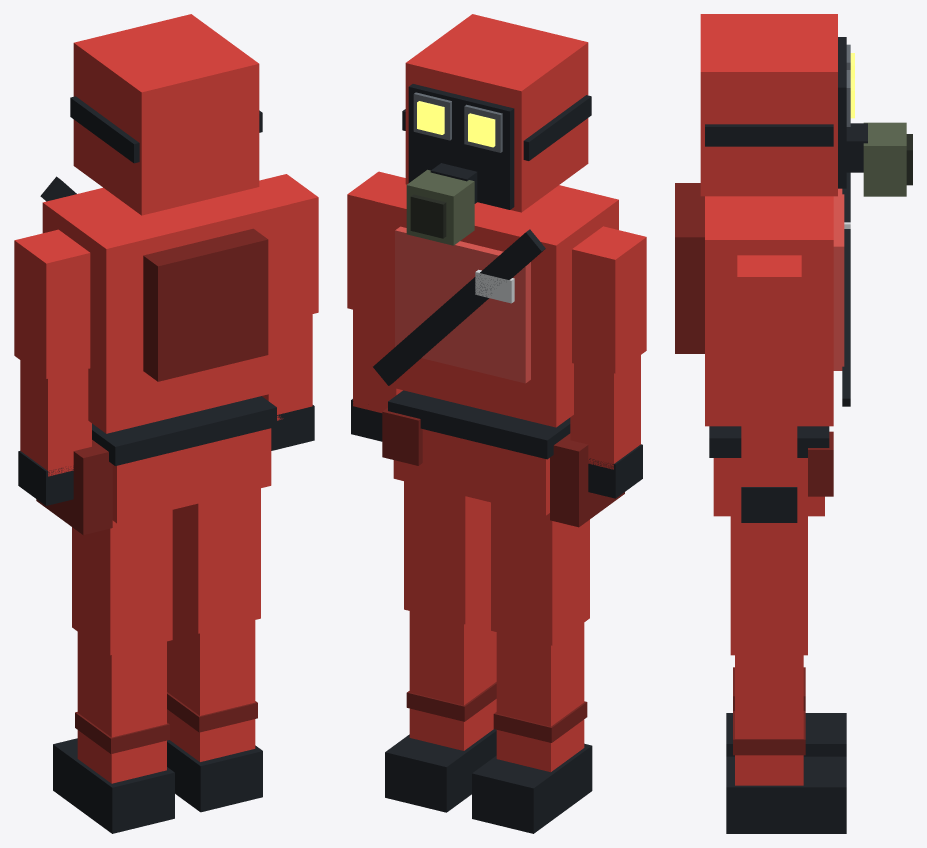
File: gas_mask_red.glb
The picture shows the model from 3 angles, left to right: view 1: azimuth 30°, elevation 25°; view 2: azimuth 150°, elevation 25°; view 3: azimuth 270°, elevation 25°; orthographic projection. The views are drawn at different scales.
Visible parts, largest first — view 1: Merged4, Merged, Merged7, Merged5, Merged6, _MeshInstance3D_1770, _MeshInstance3D_1781, _MeshInstance3D_1765, Merged2, _MeshInstance3D_1776, Merged3; view 2: Merged4, Merged, Merged7, Merged5, Merged6, _MeshInstance3D_1770, _MeshInstance3D_1781, _MeshInstance3D_1765, Merged2, _MeshInstance3D_1776, Merged3; view 3: Merged, Merged4, Merged6, _MeshInstance3D_1781, _MeshInstance3D_1776, Merged3, Merged7, Merged5.
Part boxes in pixels (x1,y1,x2,y2): Merged4: [40, 176, 290, 433]; Merged: [70, 14, 262, 215]; Merged7: [36, 396, 276, 534]; Merged5: [53, 632, 174, 833]; Merged6: [167, 615, 262, 812]; _MeshInstance3D_1770: [72, 510, 172, 655]; _MeshInstance3D_1781: [172, 488, 260, 633]; _MeshInstance3D_1765: [14, 229, 90, 378]; Merged2: [18, 360, 91, 505]; _MeshInstance3D_1776: [259, 174, 318, 319]; Merged3: [262, 314, 314, 450]; Merged4: [373, 179, 618, 427]; Merged: [402, 14, 591, 245]; Merged7: [382, 390, 624, 527]; Merged5: [472, 623, 592, 833]; Merged6: [385, 606, 496, 812]; _MeshInstance3D_1770: [491, 502, 589, 645]; _MeshInstance3D_1781: [404, 481, 490, 624]; _MeshInstance3D_1765: [572, 226, 646, 373]; Merged2: [570, 355, 642, 498]; _MeshInstance3D_1776: [347, 171, 405, 314]; Merged3: [351, 309, 402, 441]; Merged: [700, 14, 912, 196]; Merged4: [675, 172, 850, 426]; Merged6: [726, 655, 846, 833]; _MeshInstance3D_1781: [730, 516, 807, 655]; _MeshInstance3D_1776: [737, 255, 801, 393]; Merged3: [741, 393, 797, 522]; Merged7: [709, 426, 833, 516]; Merged5: [726, 667, 846, 756].
Bounding box in the file's own units: 0.74 × 1.94 × 0.555.
